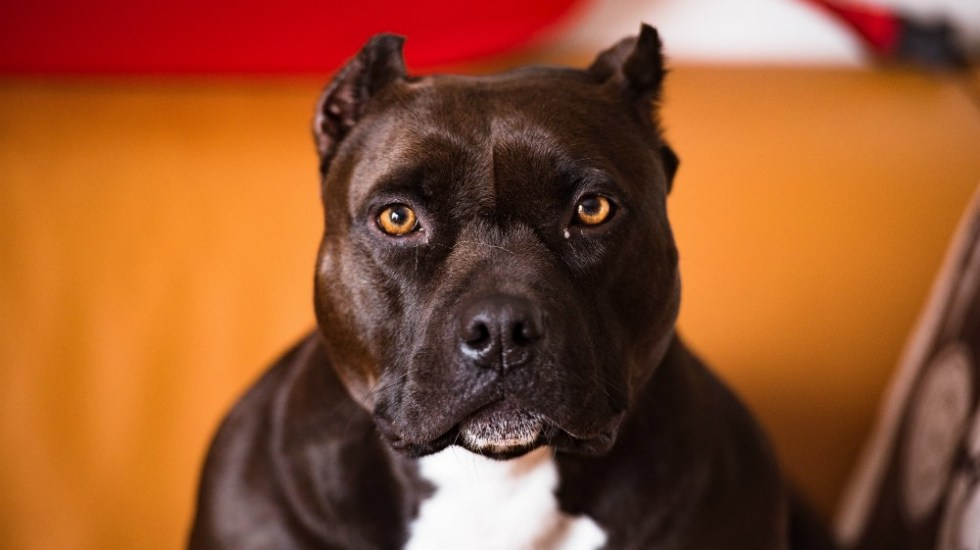Perro Pitbull: (208, 25, 730, 550)
